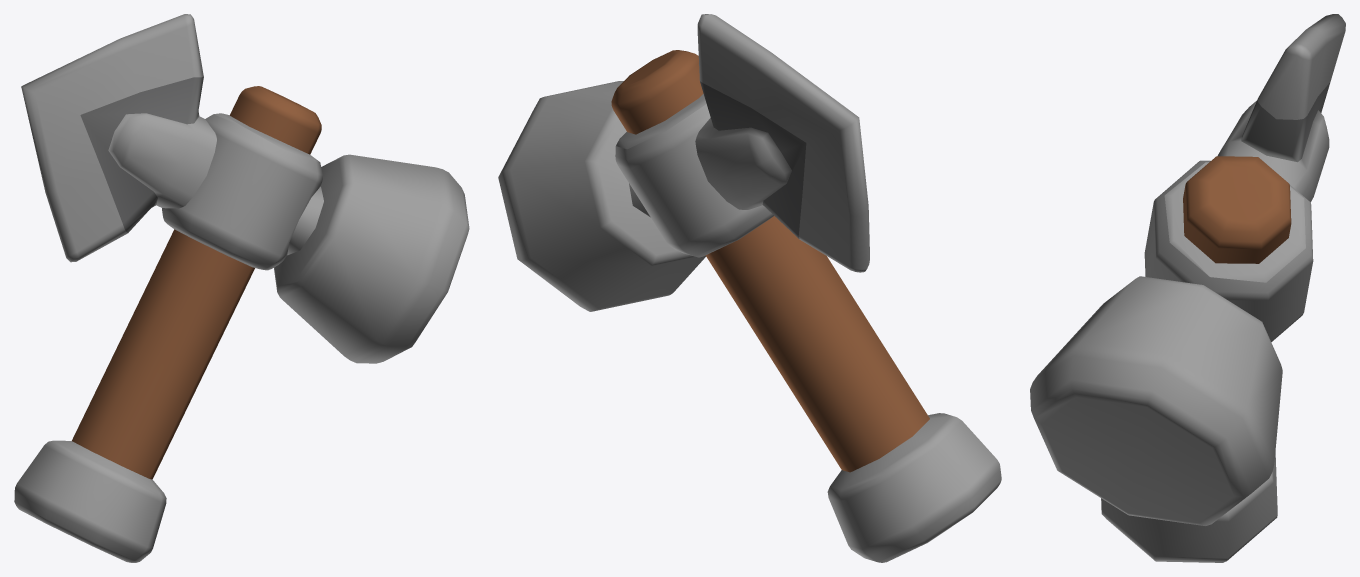
3 renders of one model, left to right at view 1: azimuth 30°, elevation 25°; view 2: azimuth 150°, elevation 25°; view 3: azimuth 270°, elevation 25°, orthographic. The views are drawn at different scales.
Parts seen in each view (by area): view 1: model_1.018; view 2: model_1.018; view 3: model_1.018.
Part boxes in pixels (<box>): model_1.018: <box>14,14,469,562</box>; model_1.018: <box>498,14,1001,562</box>; model_1.018: <box>1030,14,1345,562</box>.
Bounding box in the file's own units: 4.22 × 4.59 × 2.25.
